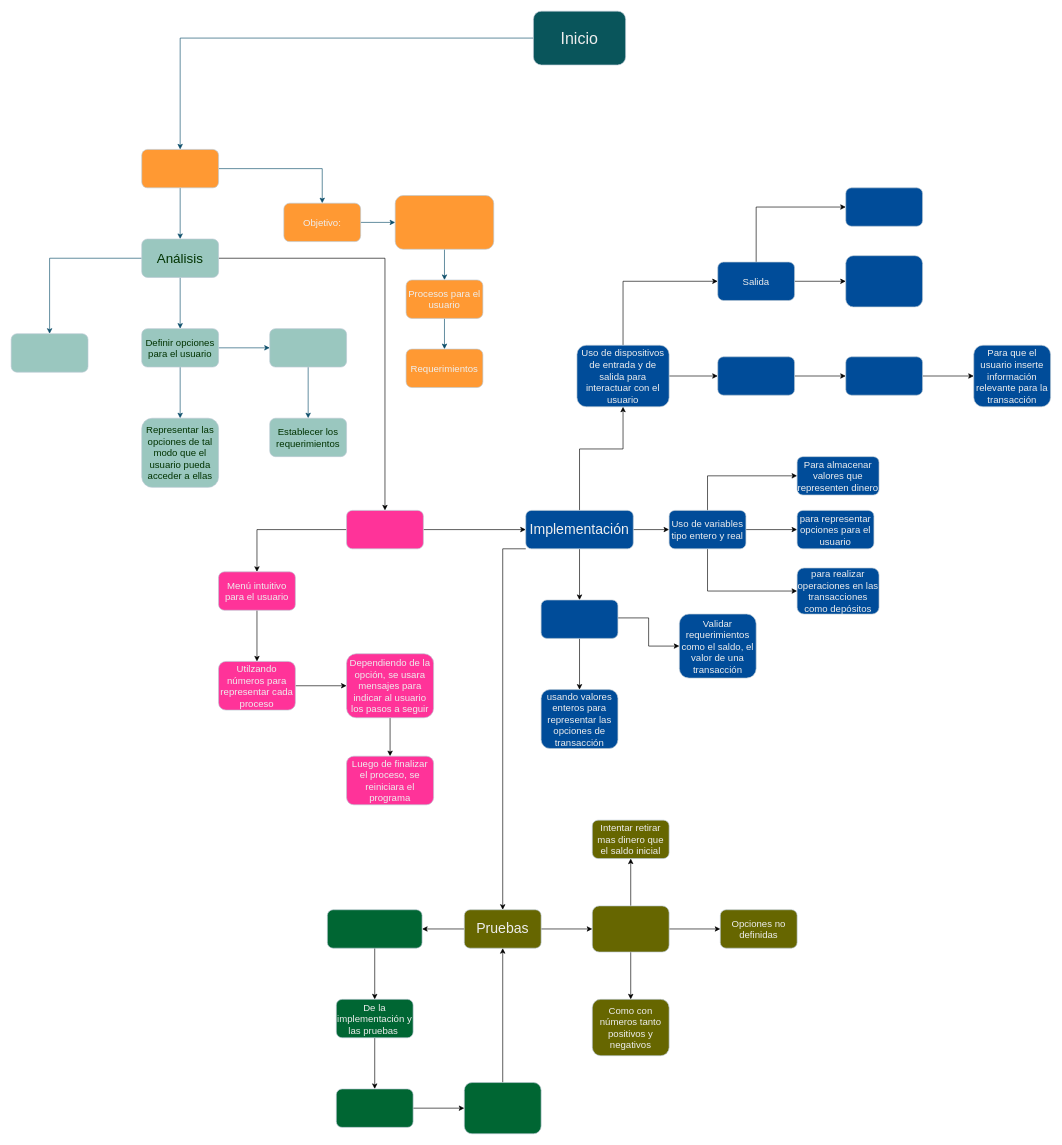
This 1062x1145 diagram has some shape labels left out. The shapes that lost their labels are listed below. From the top down, each one's centre as x and y in pixels, then its label:
At point 180,168: "Planificación".
At point 444,222: "Lograr el funcionamiento de un cajero".
At point 884,206: "Hardaware específico para entregar dinero".
At point 884,281: "Pantalla o monitor para mostrar toda la información".
At point 49,352: "Definir el Saldo".
At point 308,347: "Detallar el paso a paso de cada proceso".
At point 756,375: "Entrada".
At point 884,375: "Teclado, pantalla táctil o ambas".
At point 384,529: "Diseño".
At point 579,618: "Uso de condicionales dobles".
At point 374,928: "Mantenimiento".
At point 630,928: "Probar los diferentes procesos con diferentes datos".
At point 374,1107: "solucionar y/o optimizar el algoritmo".
At point 502,1108: "Volver a probarlo y repetir hasta que no hallan errores".
